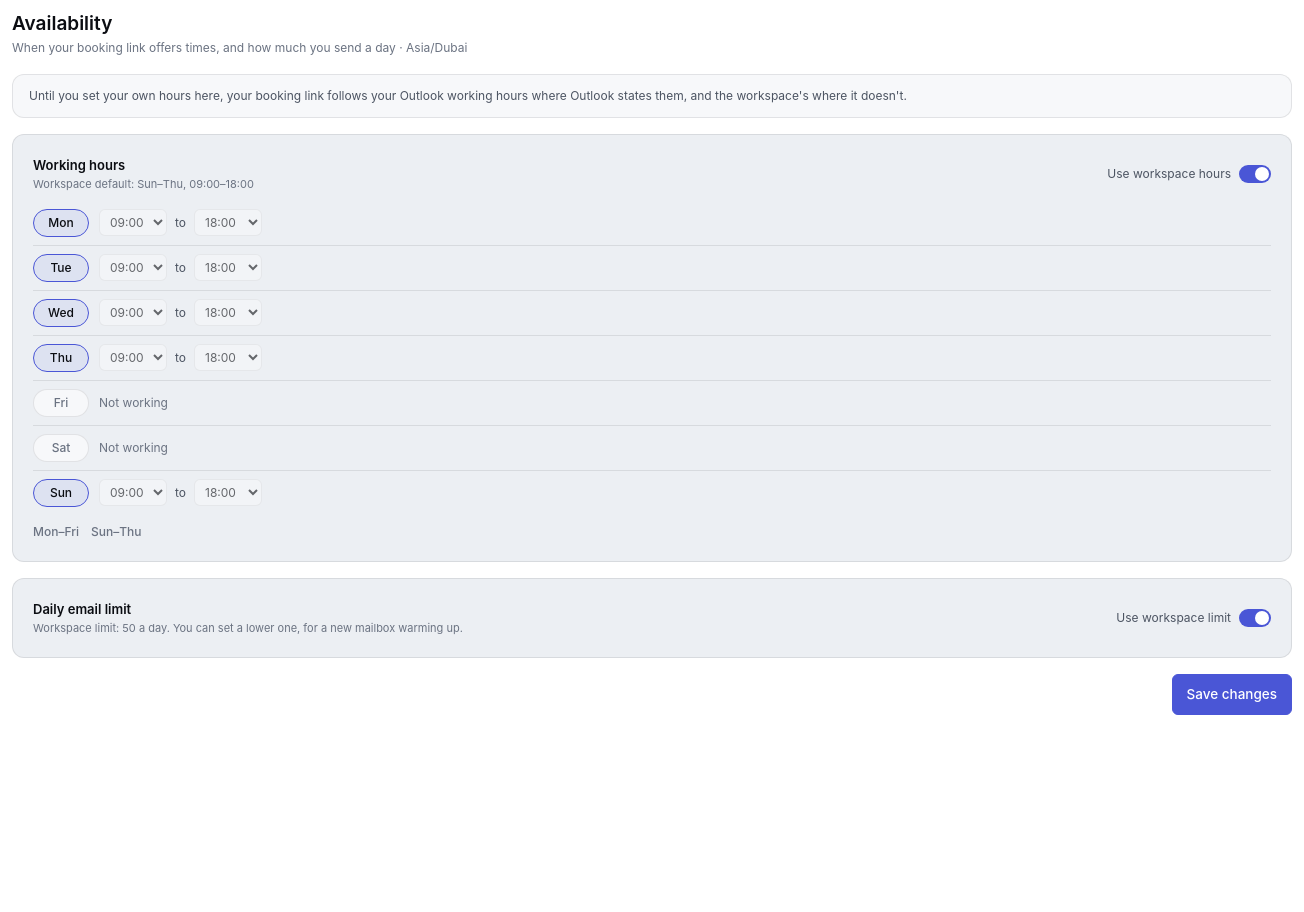
Test: SettingsAvailabilityPage › says Outlook's hours apply until the consultant sets their own, and not once they have
Expected: the text "follows your Outlook working hours where Outlook states them" is shown, x1=29 y1=88 x2=907 y2=103
What coordinates should you click on to do the following:
click the switch named "Use workspace hours"
I would click on:
 (1255, 174)
Its box is x1=1239 y1=165 x2=1271 y2=183.
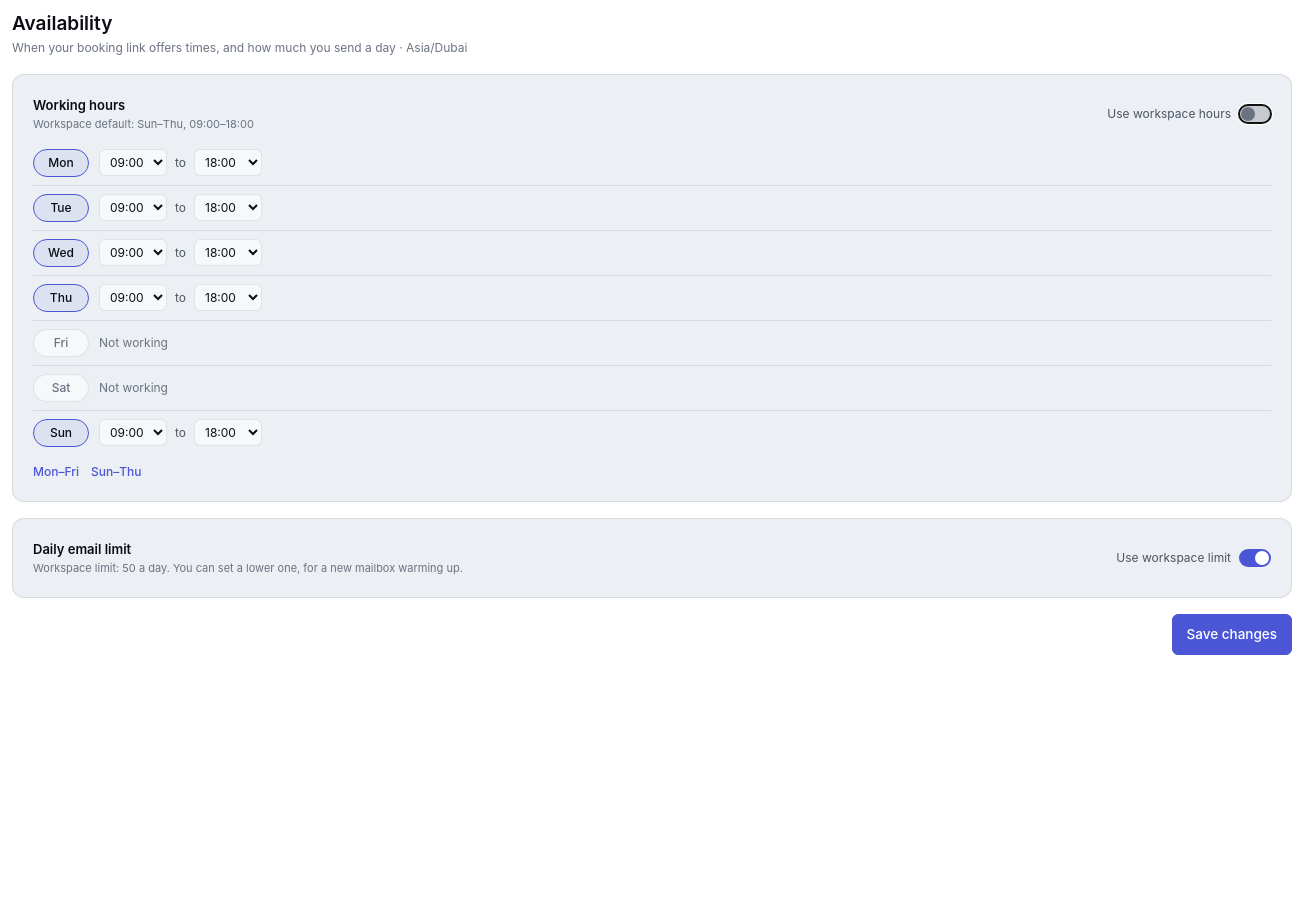
Expected: the text "follows your Outlook working hours" is gone
